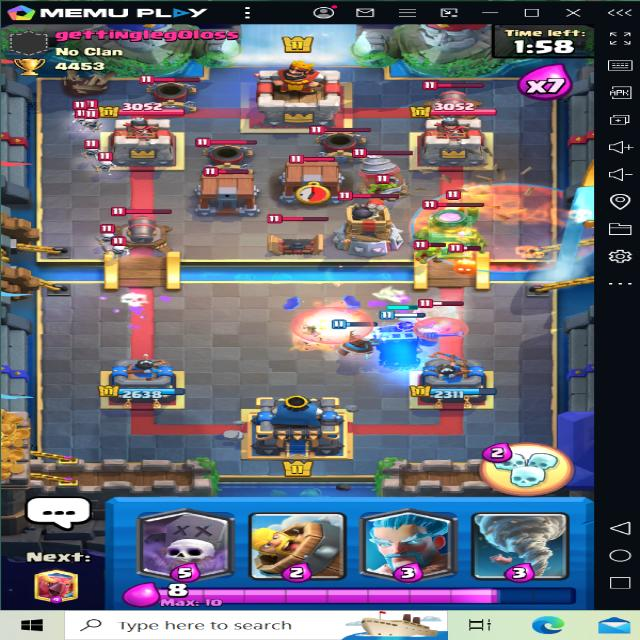bomb-tower: (335, 187, 412, 255)
cannon: (418, 78, 490, 122), (107, 207, 168, 251)
fire-spirit: (448, 254, 486, 278)
furnace: (416, 196, 493, 258)
goblin: (413, 240, 443, 268), (368, 171, 402, 195)
goblin-cage: (280, 150, 350, 198), (194, 166, 266, 212)
goblin-drill: (341, 147, 415, 200)
mortar: (140, 65, 207, 111), (307, 123, 370, 166), (194, 138, 257, 168)
skeleton: (109, 237, 139, 260), (93, 150, 124, 172), (95, 227, 128, 244), (81, 114, 102, 133)
tesla: (264, 212, 330, 256)
